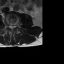CCS_normal: (11, 23, 12, 31)
LFS_normal: (14, 23, 16, 29)
LLS_stenosis: (12, 24, 14, 30)
RFS_stenosis: (7, 23, 9, 30)
RLS_normal: (9, 24, 11, 30)
